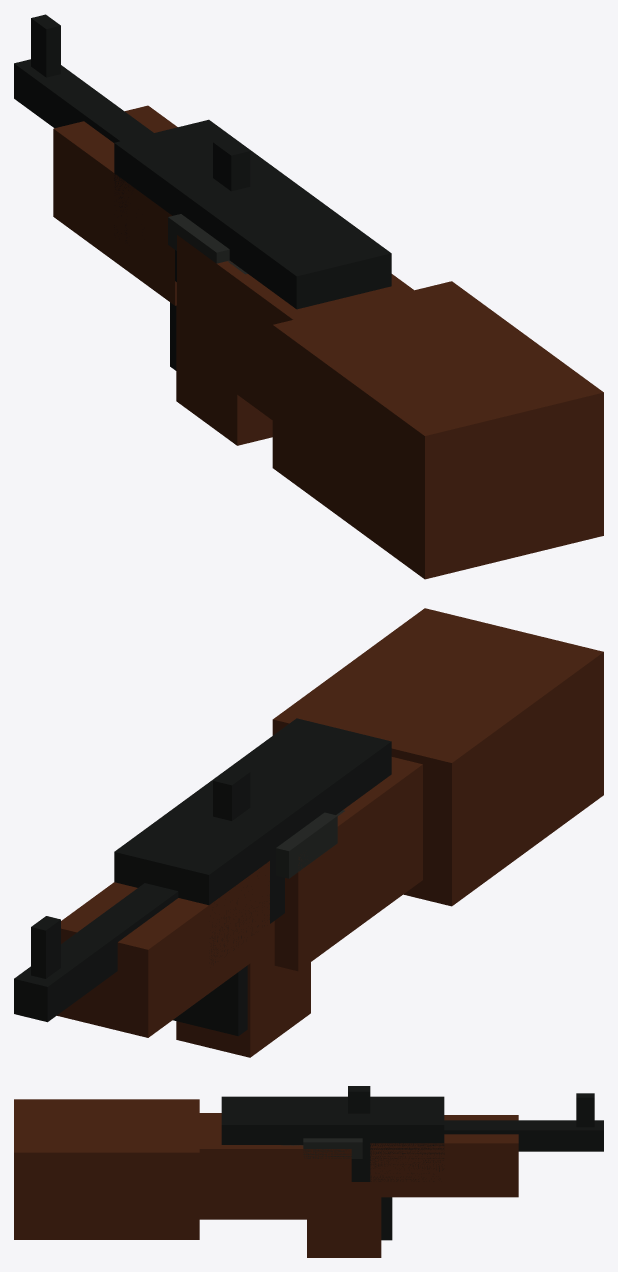
The model's file is m1-carbine.obj.
3 renders of one model, top to bottom at view 1: azimuth 30°, elevation 25°; view 2: azimuth 150°, elevation 25°; view 3: azimuth 270°, elevation 25°, orthographic. The views are drawn at different scales.
Visible parts, largest first — view 1: part_0, part_1, part_2; view 2: part_0, part_1, part_2; view 3: part_0, part_1, part_2.
Boxes of the visible parts, box(x1,y1,x2,y2) form: part_0: box(53, 105, 603, 579); part_1: box(14, 14, 391, 370); part_2: box(168, 214, 247, 274); part_0: box(57, 608, 603, 1057); part_1: box(14, 718, 391, 1036); part_2: box(276, 810, 344, 878); part_0: box(14, 1099, 518, 1257); part_1: box(221, 1086, 603, 1240); part_2: box(281, 1138, 362, 1158).
Bounding box in the file's own units: 0.34 × 0.47 × 1.59.
